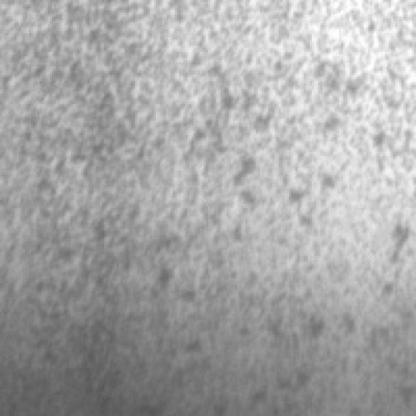pitted_surface: (6, 12, 391, 414)
